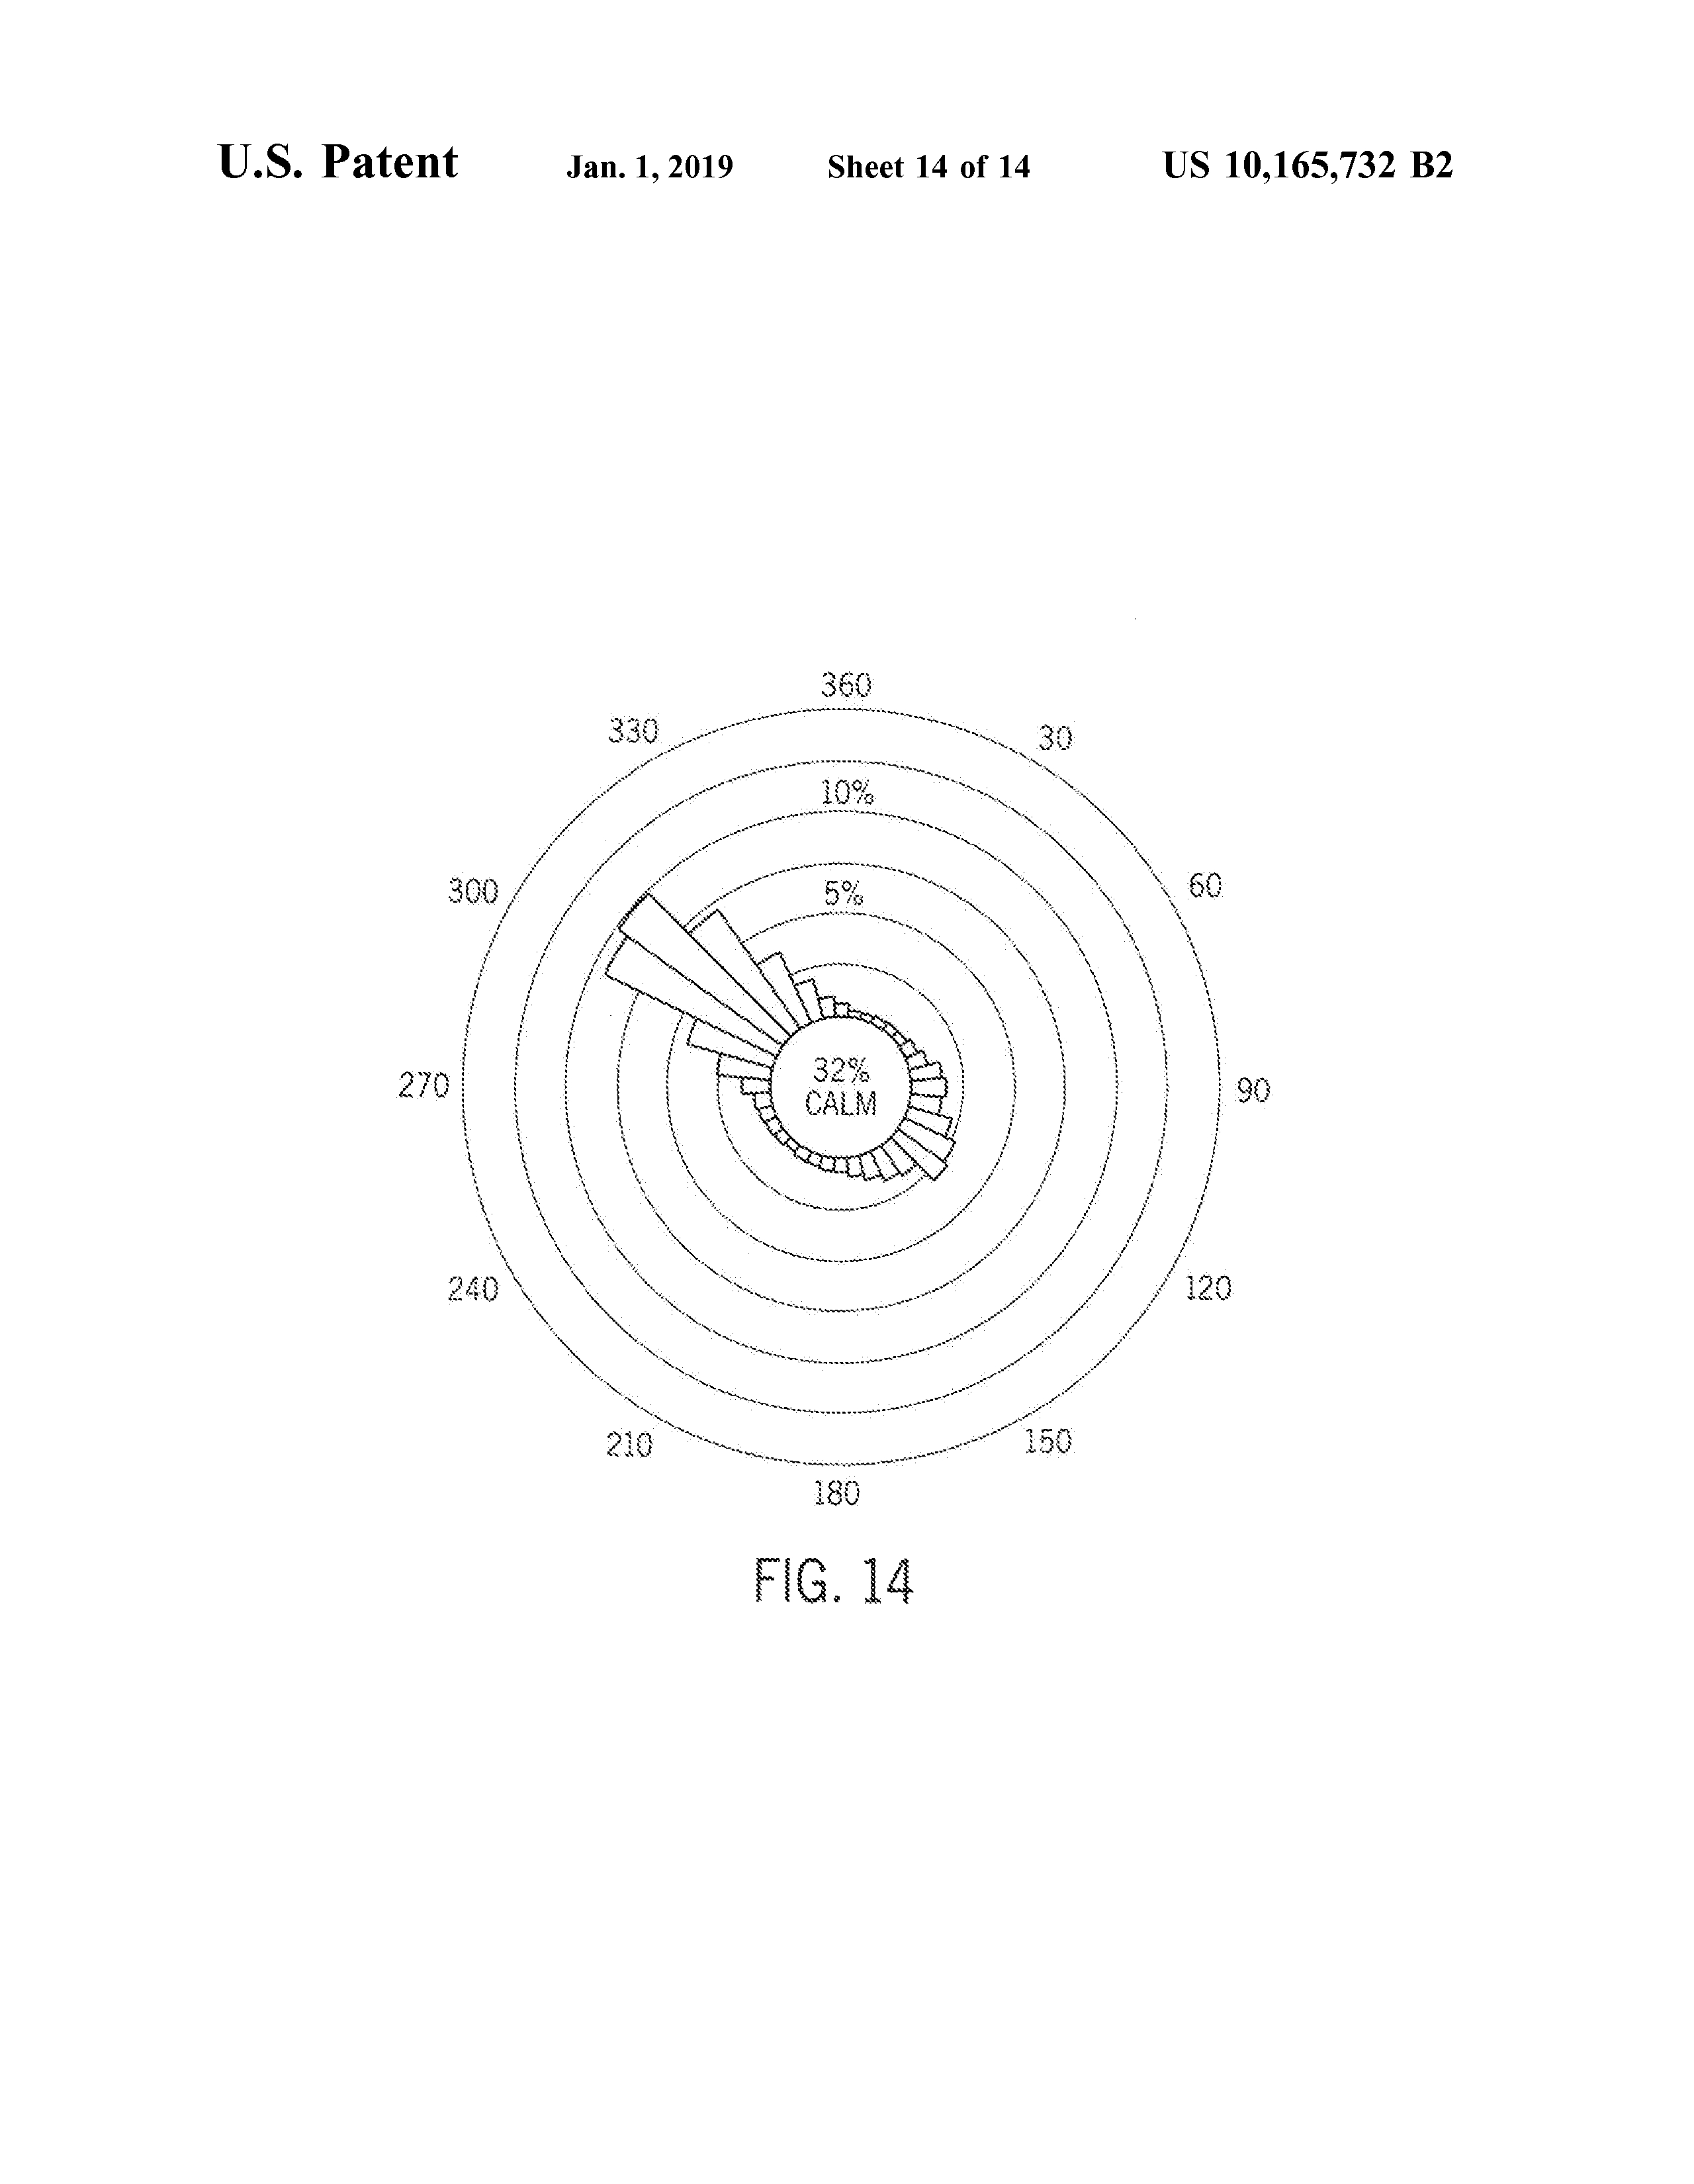patent image: (402, 641, 1282, 1672)
